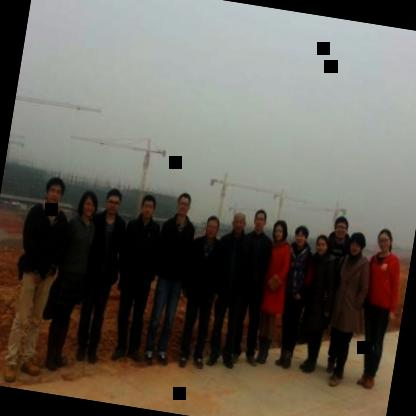head: (40, 174, 69, 214), (74, 186, 100, 221), (171, 187, 195, 219), (101, 184, 124, 216), (344, 228, 368, 258), (374, 225, 396, 257), (200, 212, 222, 243), (268, 216, 290, 247), (137, 189, 157, 223), (329, 212, 351, 241), (228, 207, 249, 236), (249, 205, 270, 234), (290, 223, 310, 252), (312, 232, 332, 258)
